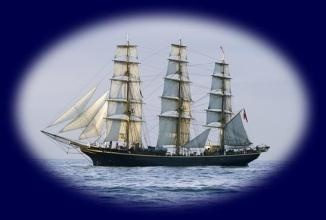fanchuan: (42, 35, 268, 166)
